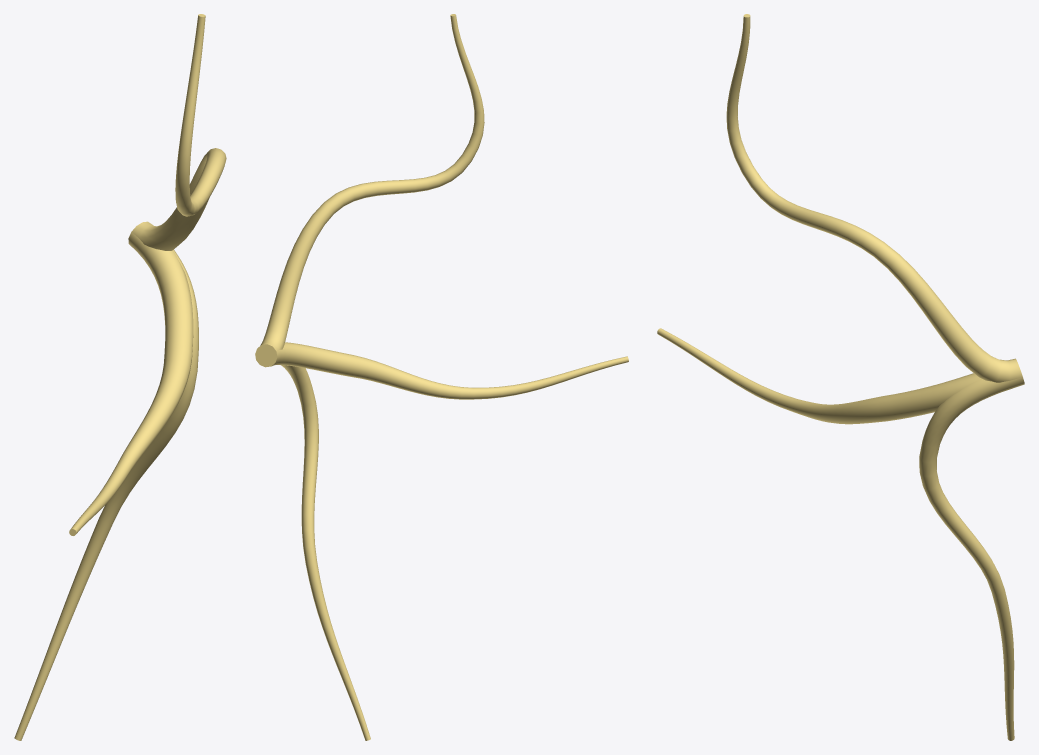
3 renders of one model, left to right at view 1: azimuth 30°, elevation 25°; view 2: azimuth 150°, elevation 25°; view 3: azimuth 270°, elevation 25°, orthographic. The views are drawn at different scales.
Visible parts, largest first — view 1: ZA_6521774c8aad9c82; view 2: ZA_6521774c8aad9c82; view 3: ZA_6521774c8aad9c82.
Part boxes in pixels (bbox=[...]): ZA_6521774c8aad9c82: bbox=[14, 14, 226, 740]; ZA_6521774c8aad9c82: bbox=[255, 14, 628, 740]; ZA_6521774c8aad9c82: bbox=[657, 14, 1024, 740].
Bounding box in the file's own units: 0.00443 × 0.0119 × 0.00536.
